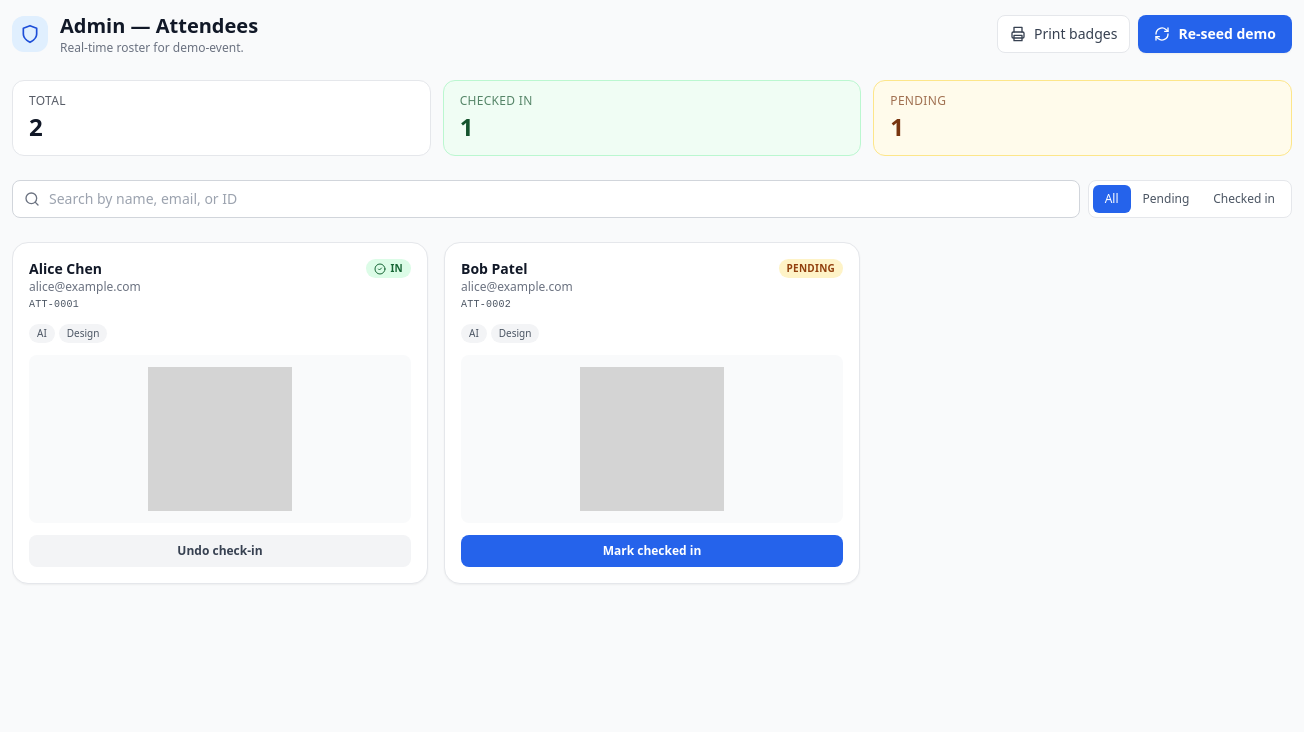
<AdminPage /> › roster rendering › filters by status pill (Pending / Checked in)
The width and height of the screenshot is (1304, 732).
Click the button "Pending".
click(1166, 199)  # box [1131,185,1201,213]
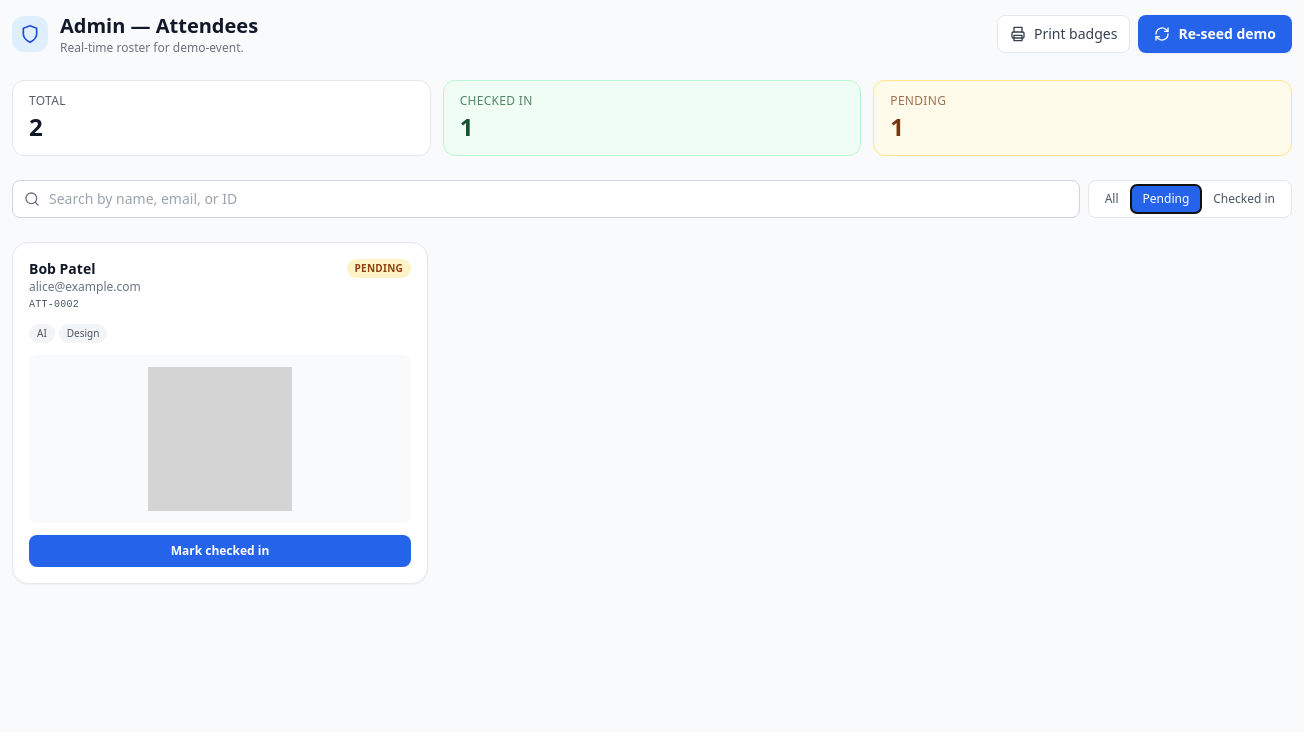
Expected: the heading "Bob Patel" is shown, [29,259,96,278]
Now the heading "Alice Chen" is gone
Click the button "Checked in".
click(1244, 199)  # box [1201,185,1287,213]
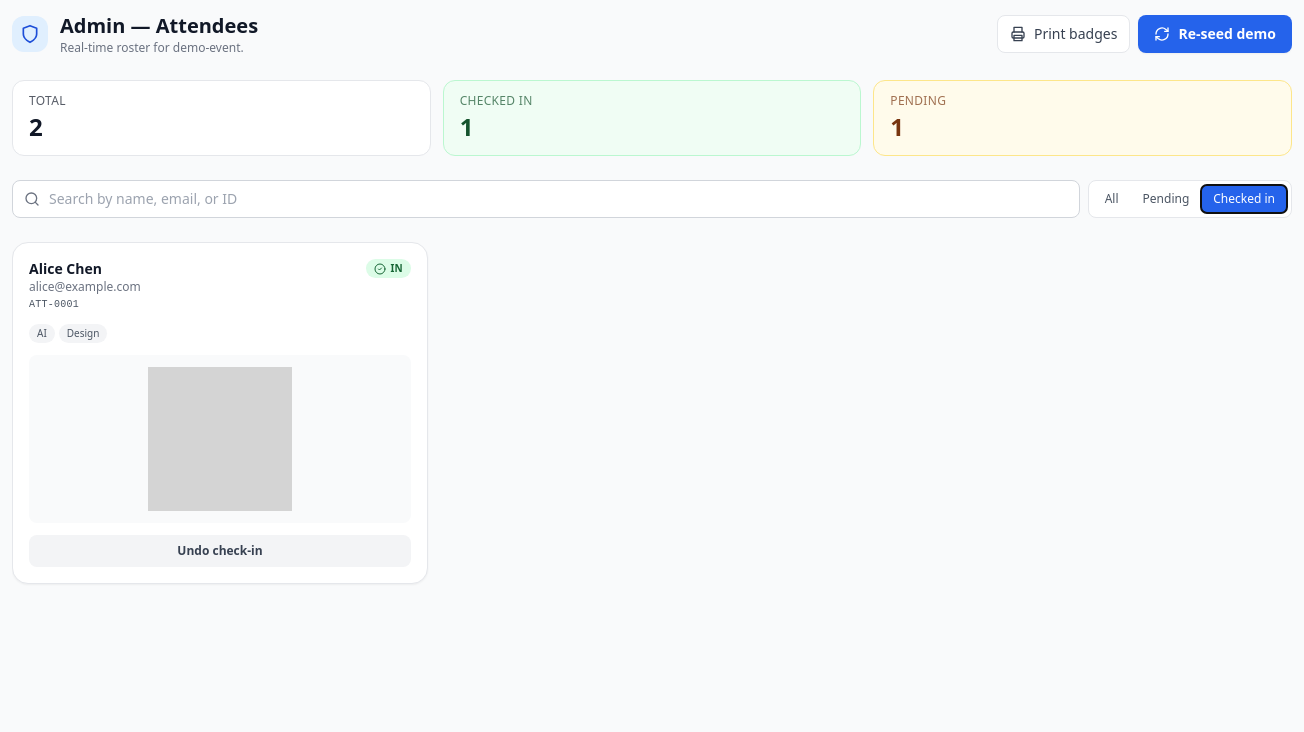
Now the heading "Alice Chen" is shown, box [29,259,102,278]
Now the heading "Bob Patel" is gone
